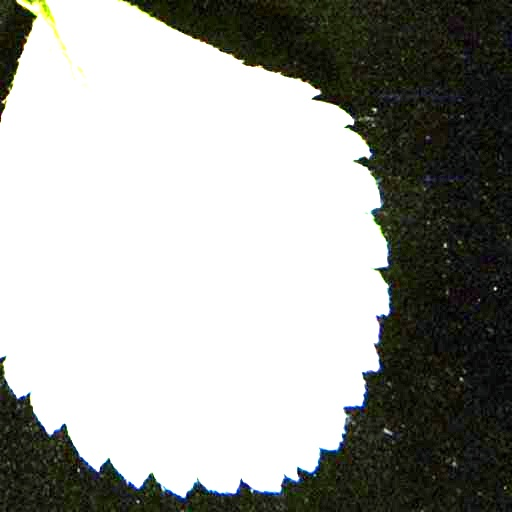Leaf Spot: (0, 0, 391, 499)
